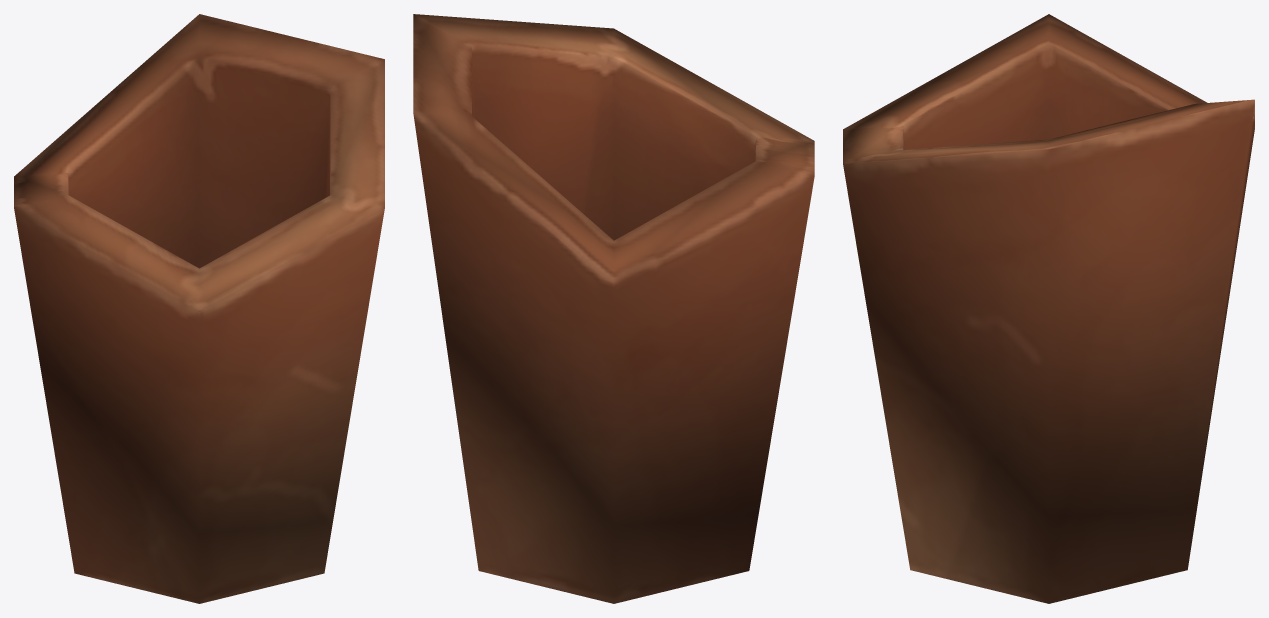
File: et_ruins_01_sm.FBX
3 views of the same model, side by side, from view 1: azimuth 30°, elevation 25°; view 2: azimuth 150°, elevation 25°; view 3: azimuth 270°, elevation 25° (orthographic). The views are drawn at different scales.
Visible parts, largest first — view 1: et_ruins_01_sm; view 2: et_ruins_01_sm; view 3: et_ruins_01_sm.
Boxes of the visible parts, x1,y1,x2,y2 form: et_ruins_01_sm: [14, 14, 384, 603]; et_ruins_01_sm: [413, 14, 814, 603]; et_ruins_01_sm: [843, 14, 1254, 603].
Size of what is drawn, in the model's own units: 54.4 by 47.11 by 61.48.
